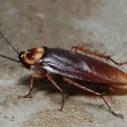cockroach: (16, 44, 127, 96)
